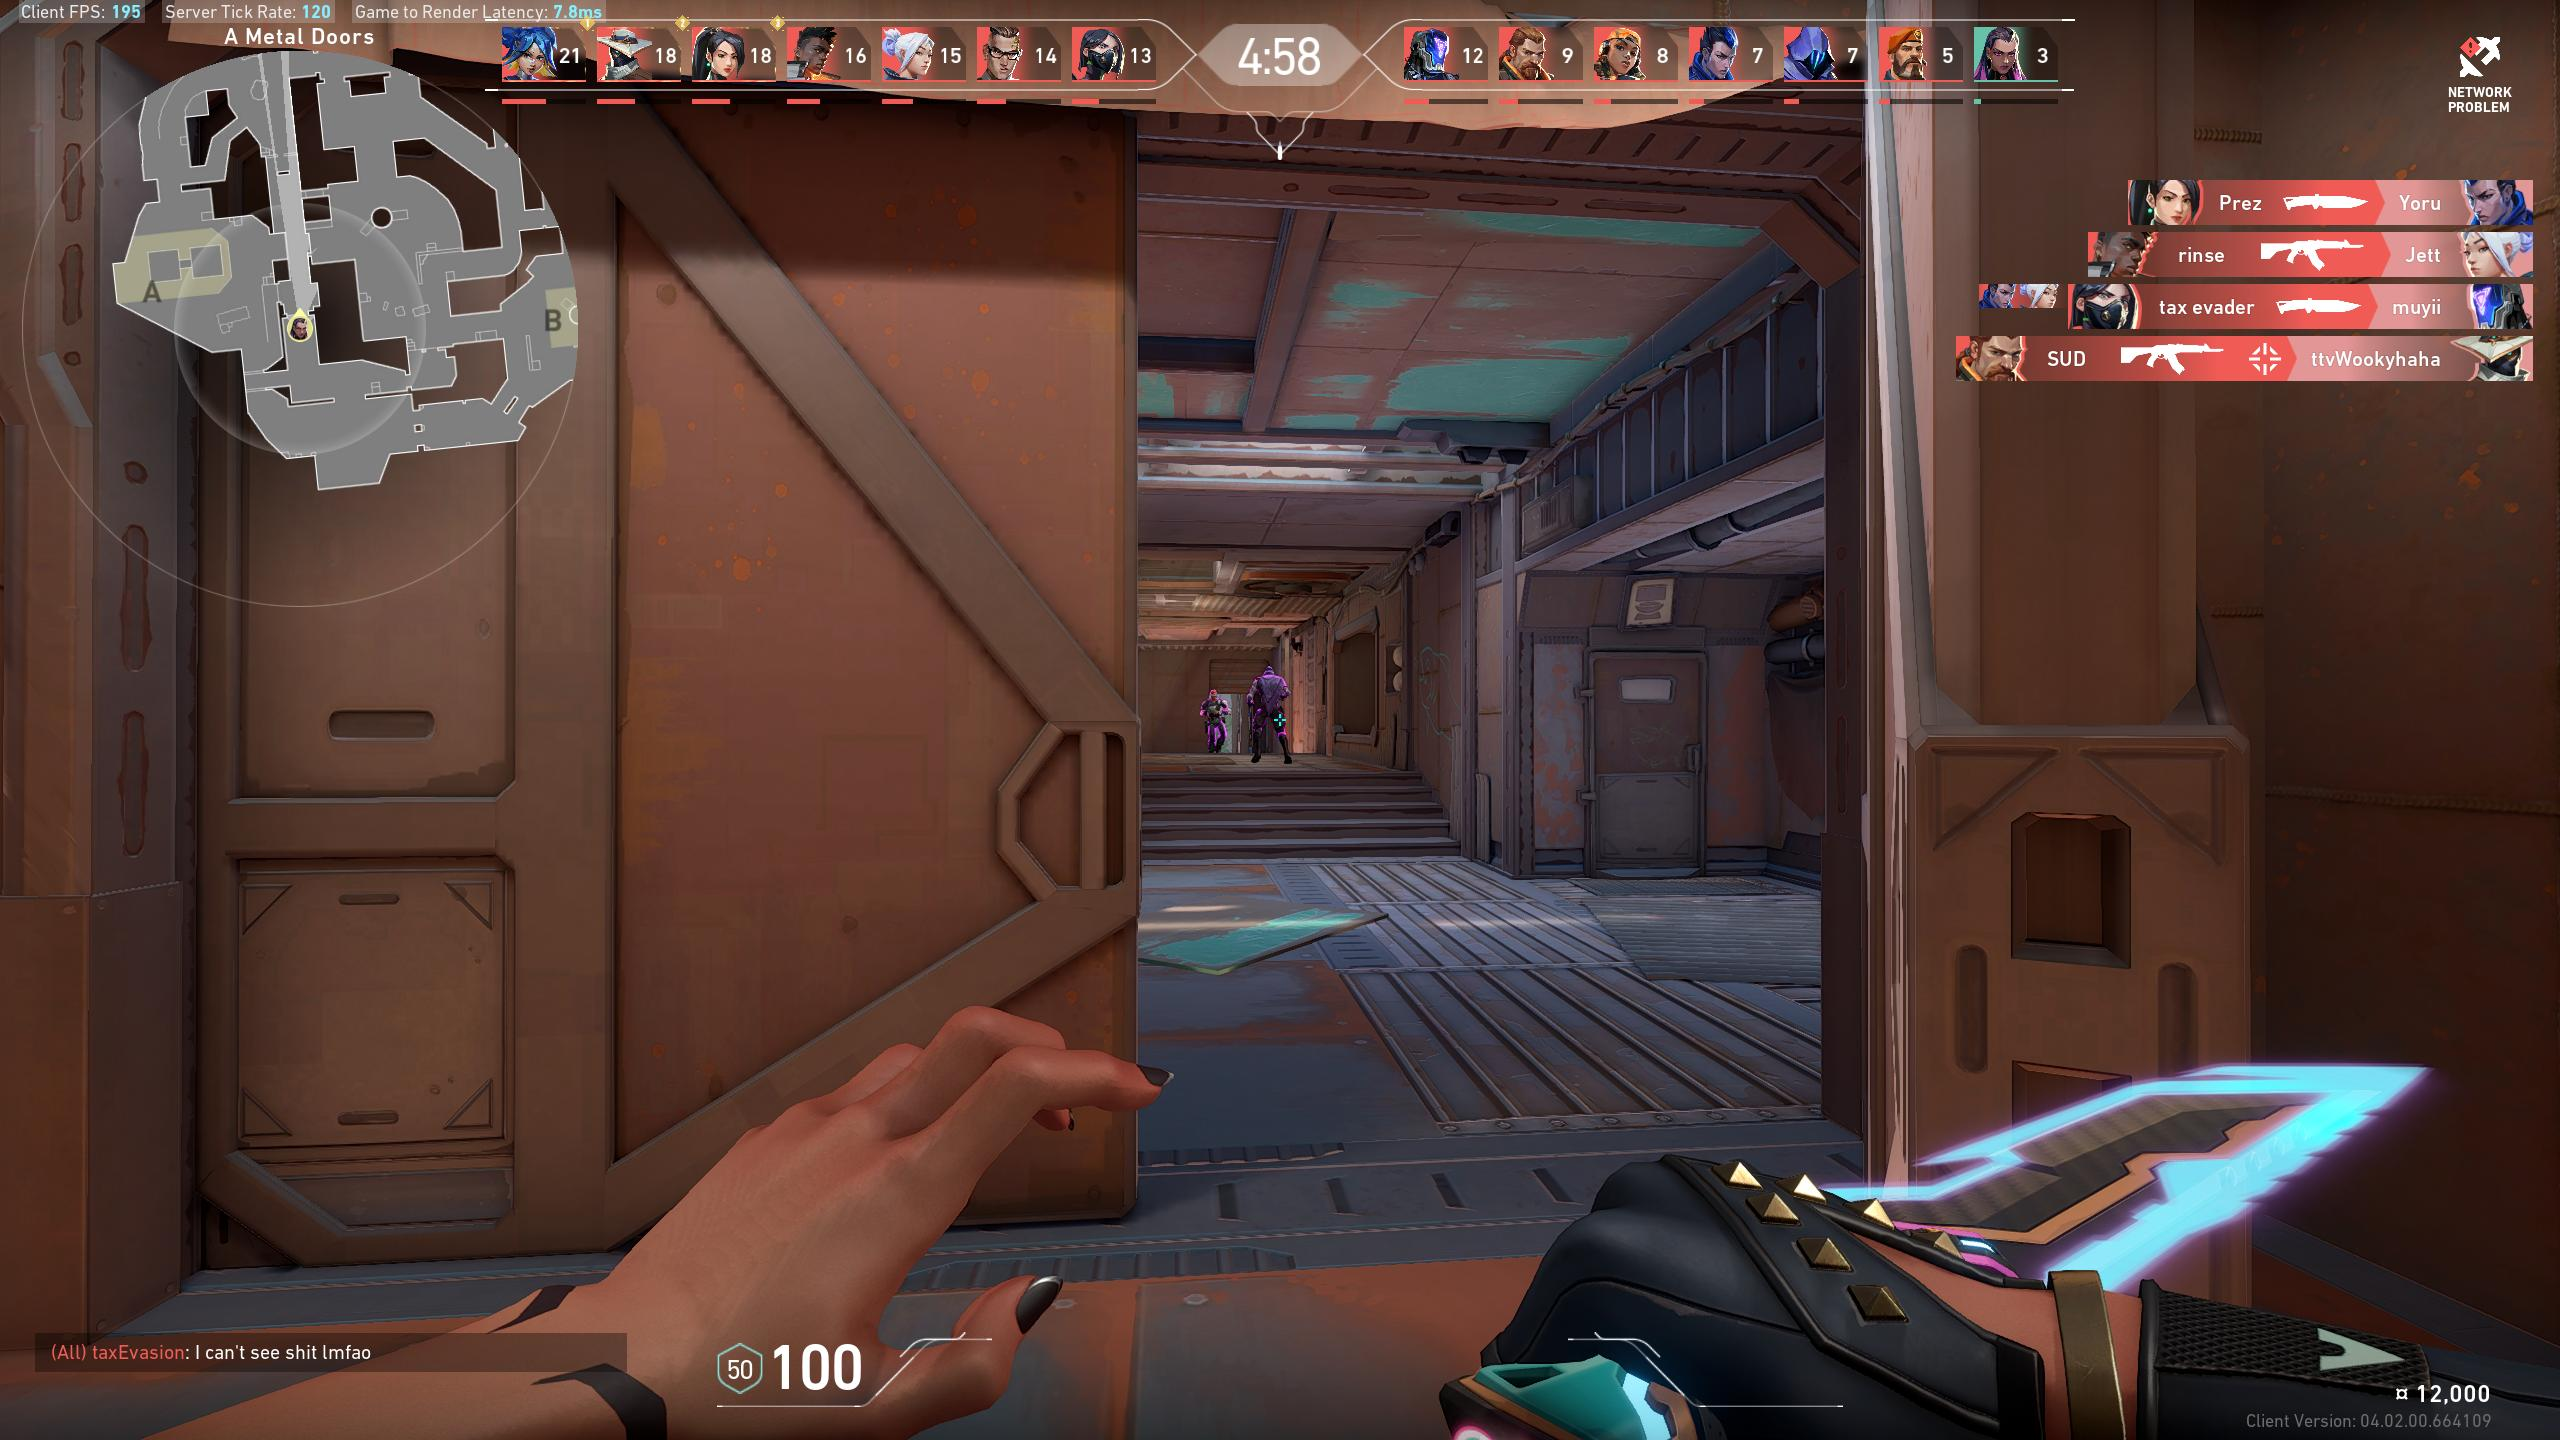enemyBody: (1264, 677, 1275, 702), (1210, 700, 1218, 716)
enemyHead: (1264, 668, 1273, 675), (1211, 693, 1217, 698)
